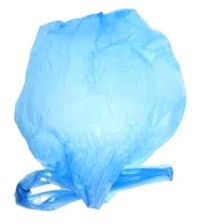plastic_bag: (8, 4, 191, 220)
